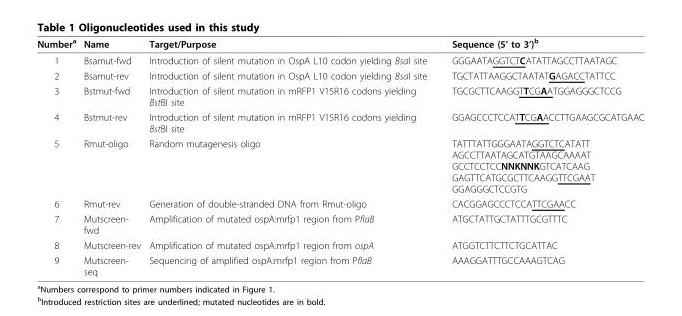table: (36, 36, 643, 276)
table column: (144, 36, 438, 276), (438, 36, 643, 276), (79, 36, 144, 276), (36, 36, 79, 276)
table column header: (36, 36, 643, 51)
table row: (36, 135, 643, 195), (36, 82, 643, 109), (36, 210, 643, 237), (36, 109, 643, 135), (36, 252, 643, 276), (36, 51, 643, 67), (36, 36, 643, 51), (36, 67, 643, 82), (36, 195, 643, 210), (36, 237, 643, 252)
